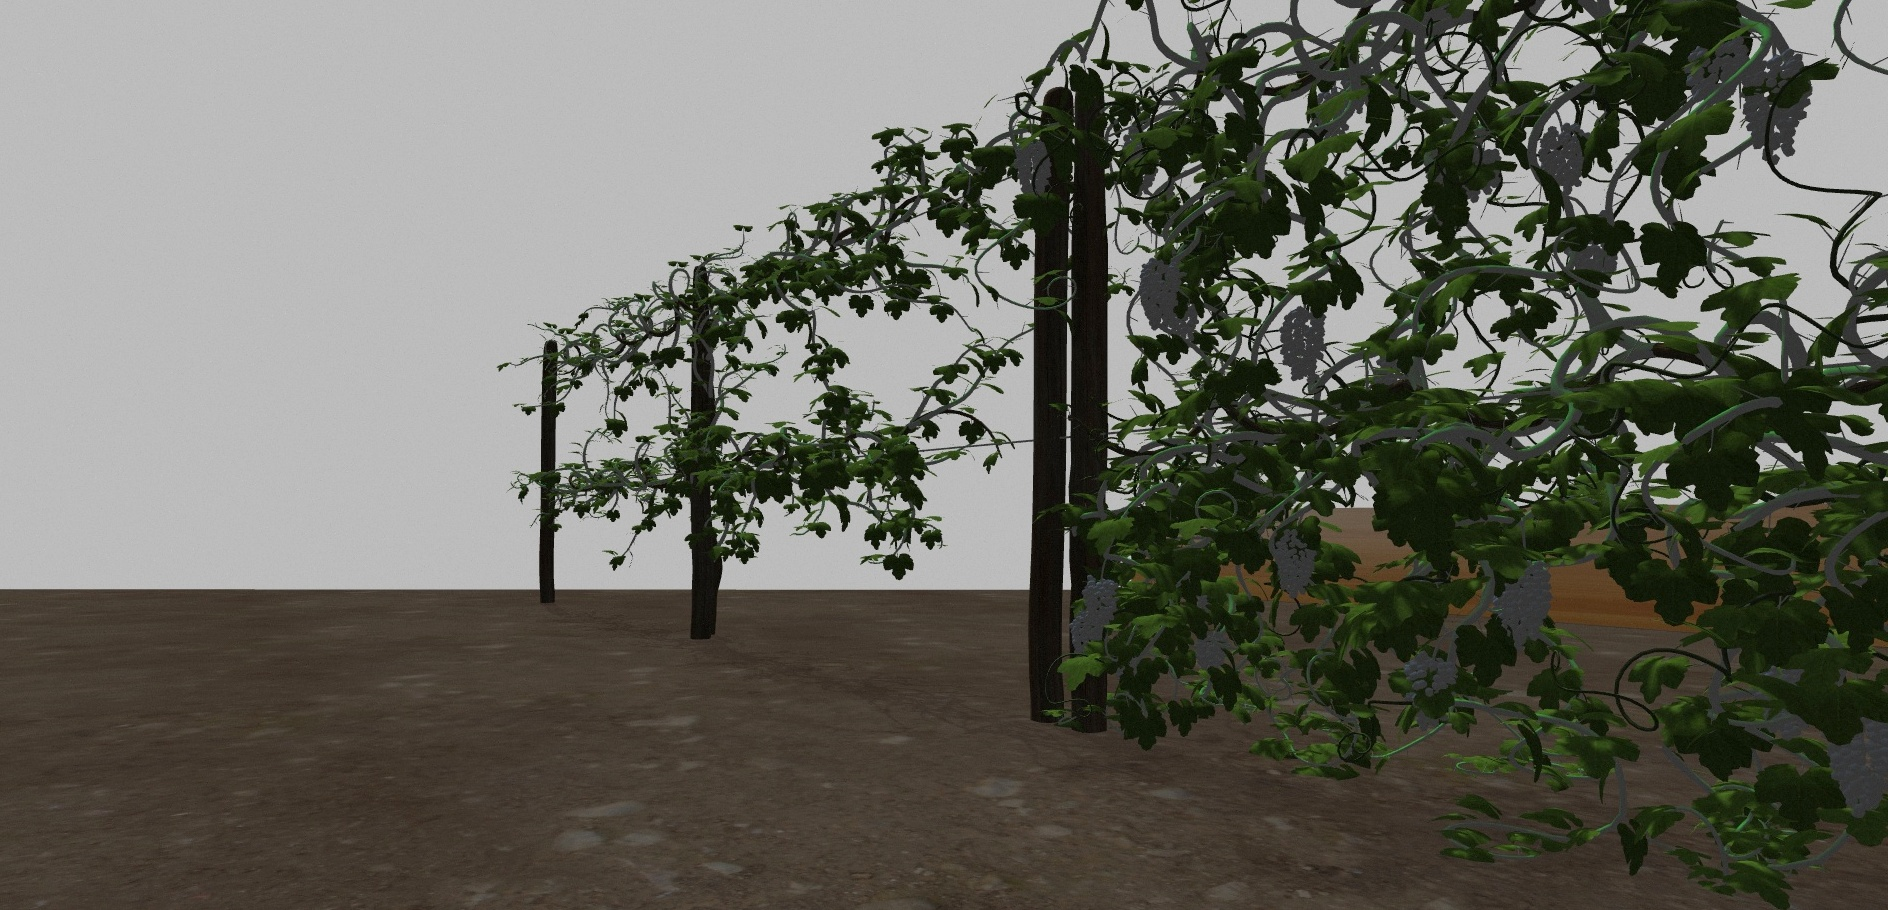grape: (1742, 55, 1813, 159), (1830, 723, 1887, 819), (1494, 560, 1554, 648), (1685, 39, 1745, 104), (1538, 123, 1588, 195), (1280, 308, 1327, 380), (1137, 258, 1184, 330), (1273, 530, 1317, 599), (1404, 649, 1459, 697), (1013, 141, 1052, 197), (1192, 617, 1231, 668), (1082, 575, 1116, 626), (1069, 615, 1107, 660)
